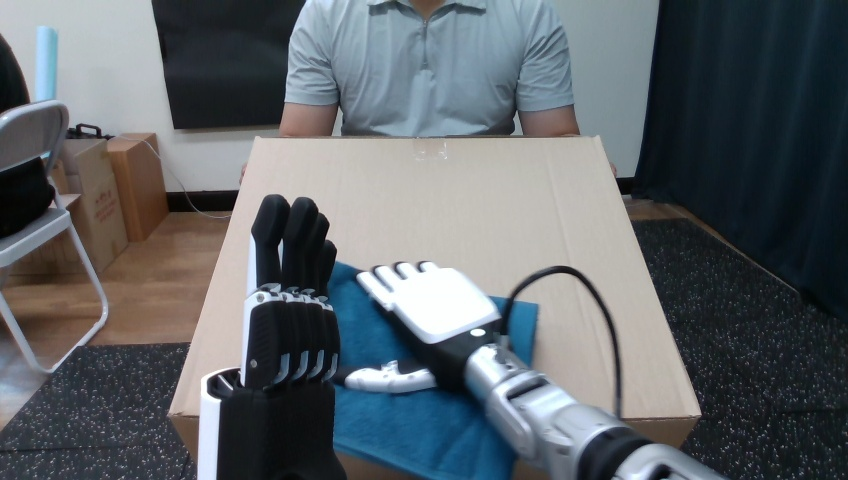left robot hand: (356, 261, 722, 479), (197, 194, 345, 479)
